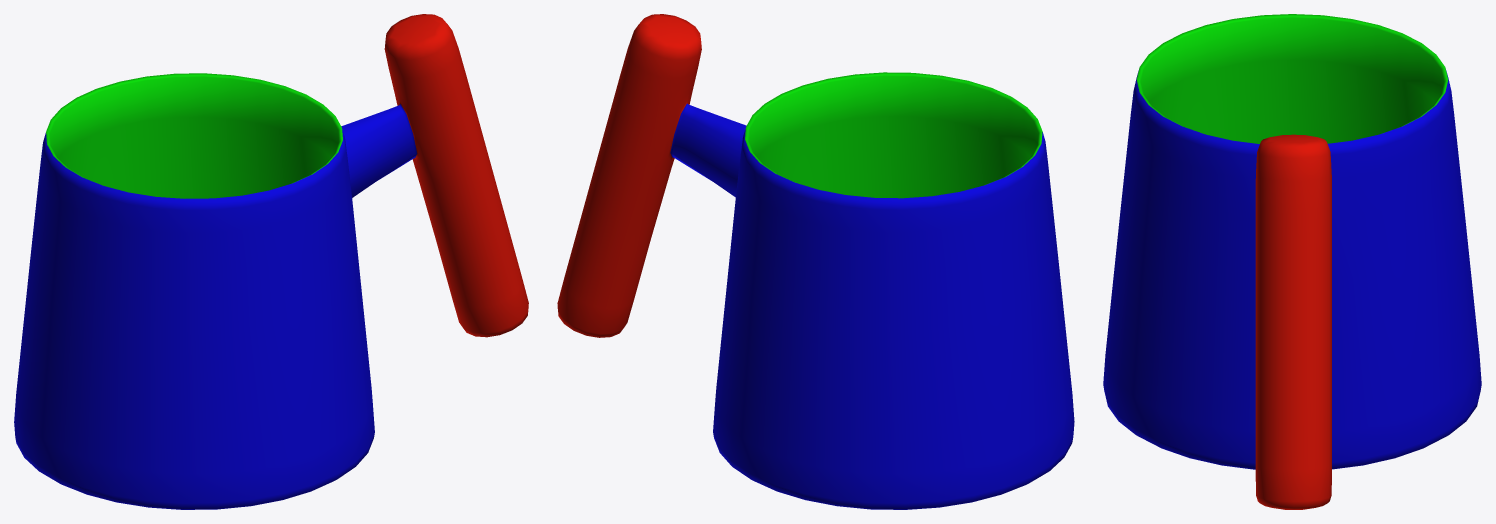
The model's file is Cup.fbx.
3 renders of one model, left to right at view 1: azimuth 30°, elevation 25°; view 2: azimuth 150°, elevation 25°; view 3: azimuth 270°, elevation 25°, orthographic. The views are drawn at different scales.
Visible parts, largest first — view 1: Cylinder; view 2: Cylinder; view 3: Cylinder.
Boxes of the visible parts, box(x1,y1,x2,y2) form: Cylinder: box(14, 14, 528, 509); Cylinder: box(557, 14, 1074, 509); Cylinder: box(1103, 14, 1481, 509).
Size of the model in its own units: 400 by 294 by 257.
